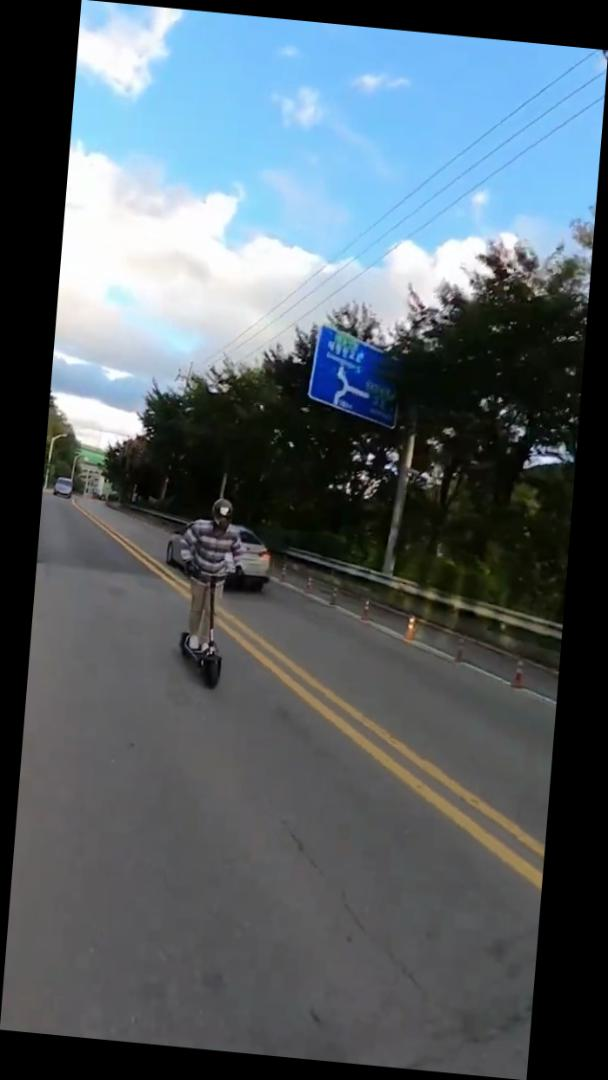helmet: (169, 491, 249, 693)
